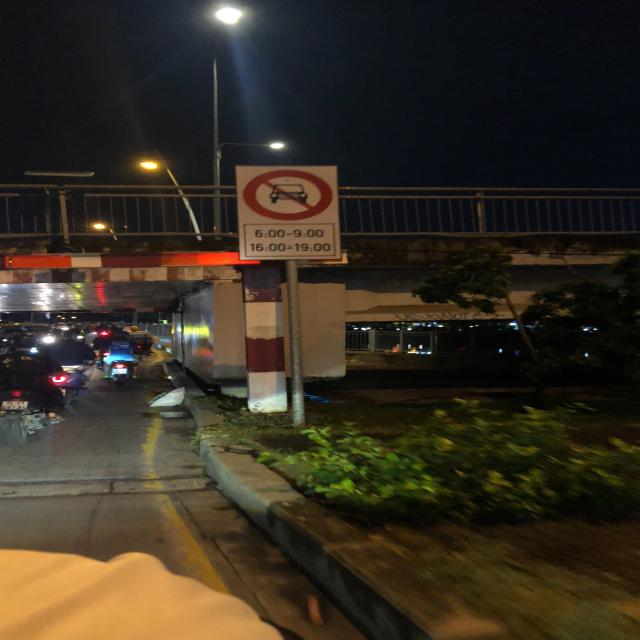Bien bao cam xe oto: (234, 165, 344, 221)
